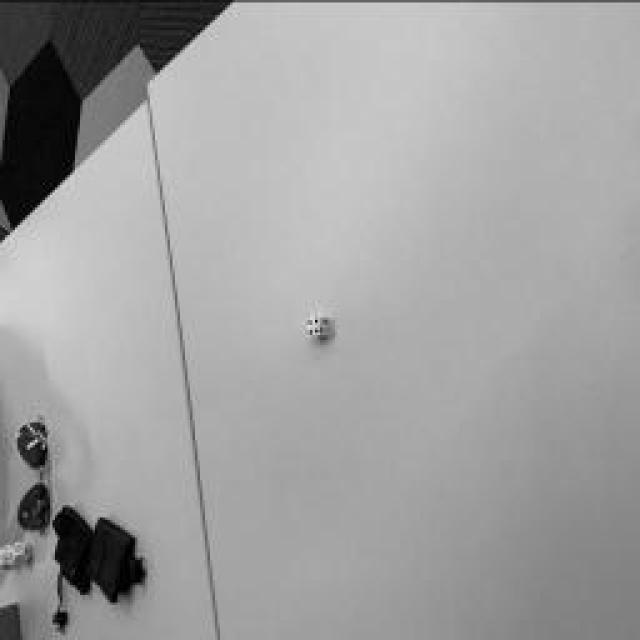dice_4: (308, 316, 320, 336)
